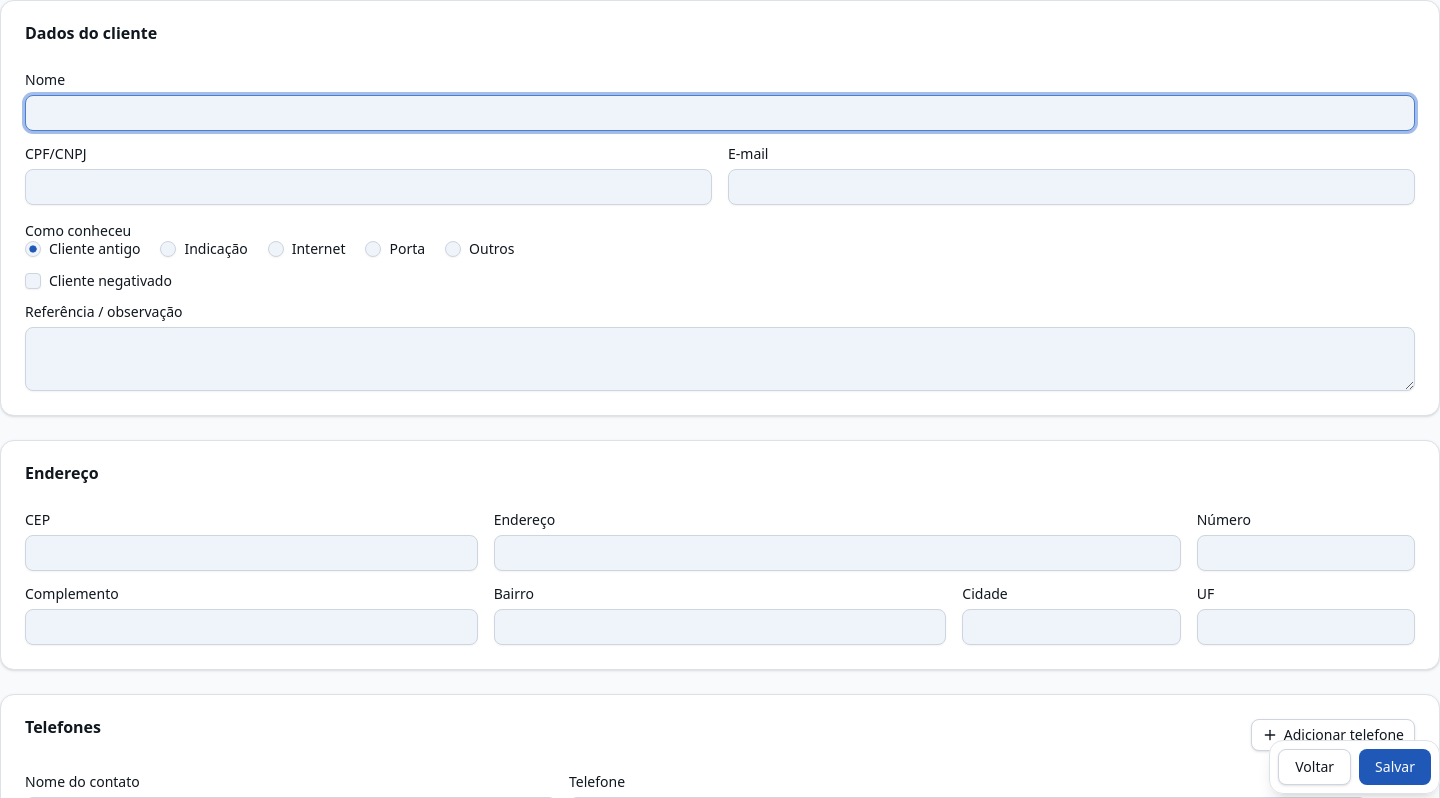
Scenario: ClienteFormulario: mensagens de erro (R-UX-18) › passar pelo Nome sem digitar e ir para outro campo não acusa erro; salvar acusa
Type "23" into the field labelled "CEP".
click(251, 553); type("23")  # box [25,535,478,571]
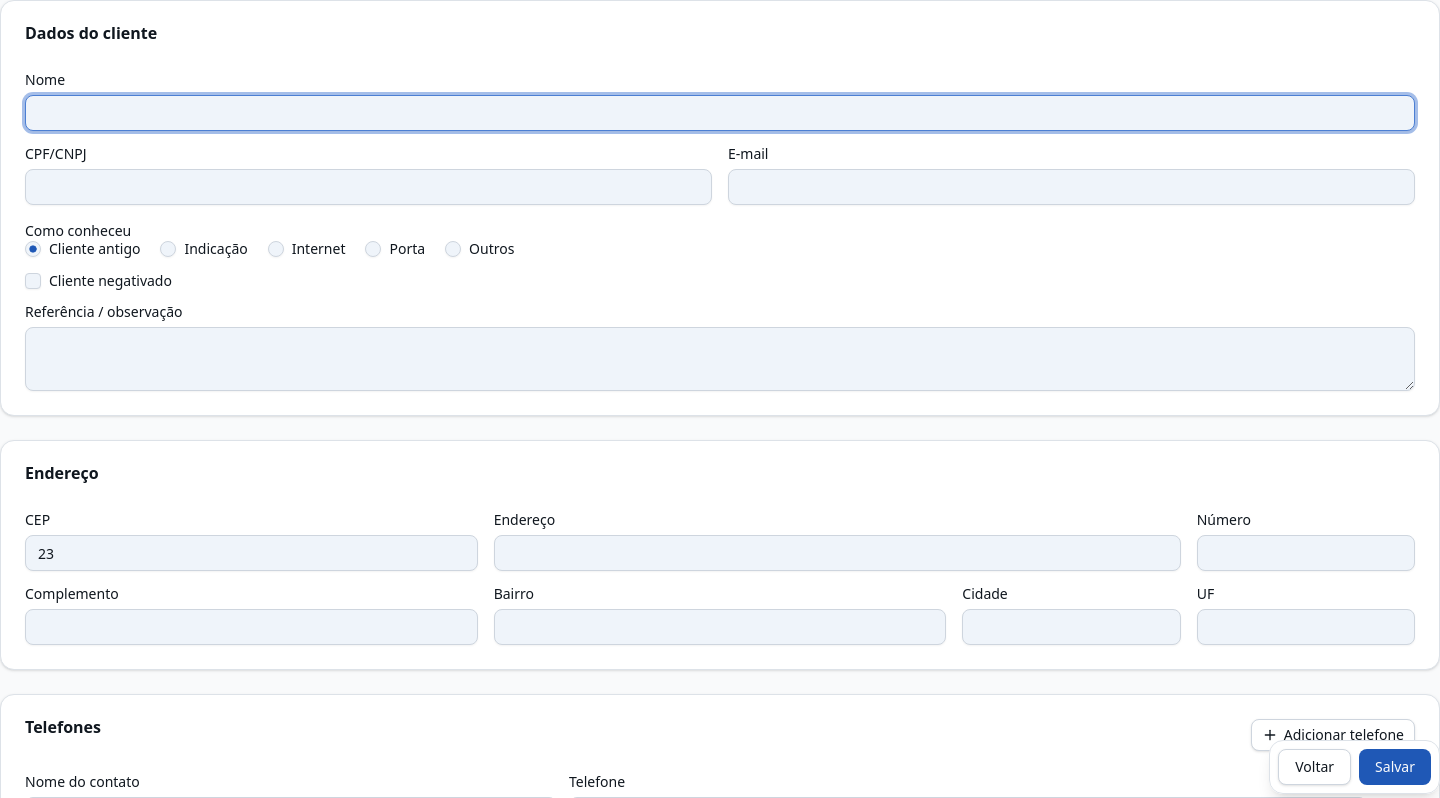
Type "a" into the field labelled "E-mail".
click(1072, 187); type("a")  # box [728,169,1415,205]
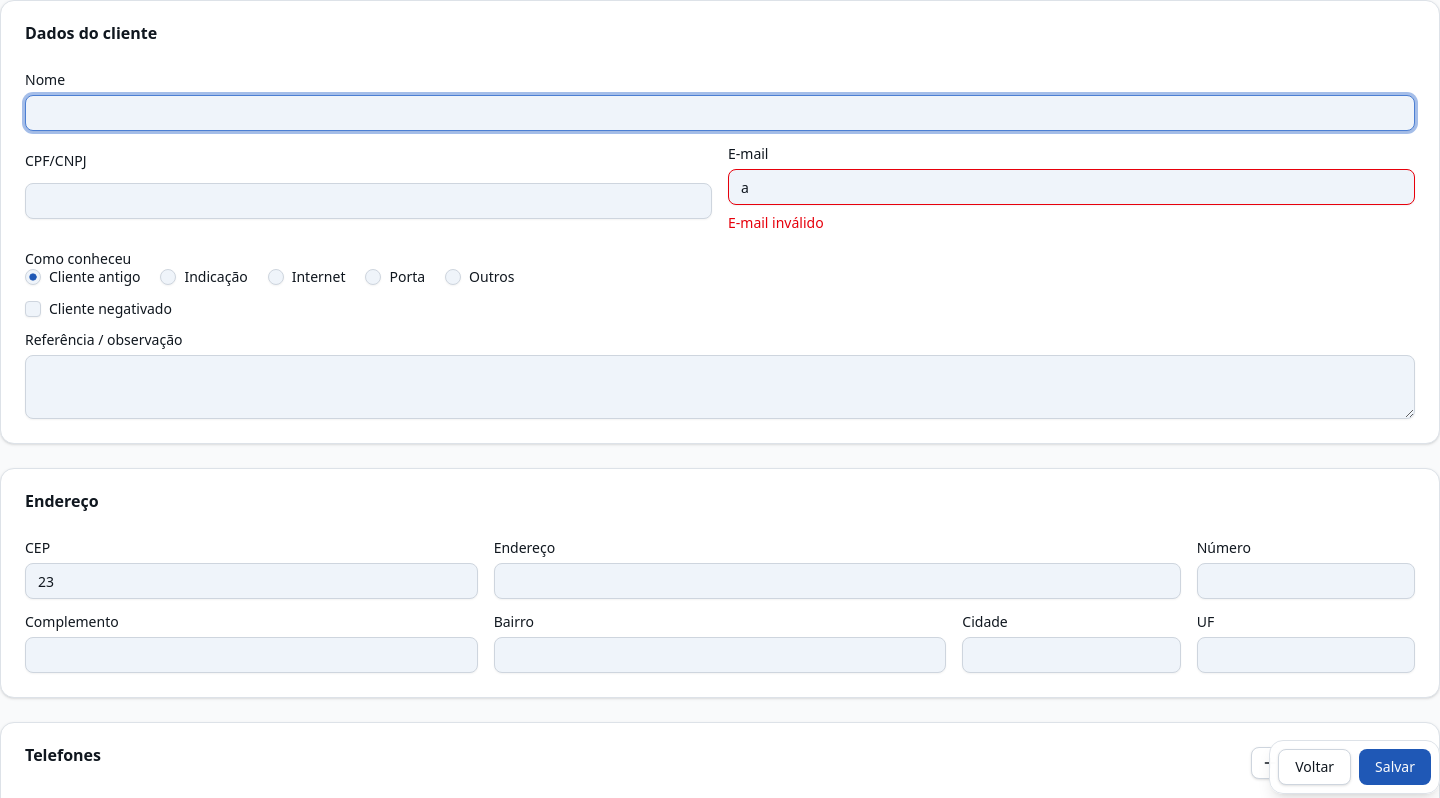
Expected: the text "Informe o nome" is not shown
Expected: the field labelled "E-mail" has attribute aria-invalid
Note: E-mail vazio de novo: o campo de e-mail do navegador barraria o envio antes do formulário.
Clear the field labelled "E-mail" at (1072, 187), box [728,169,1415,205]
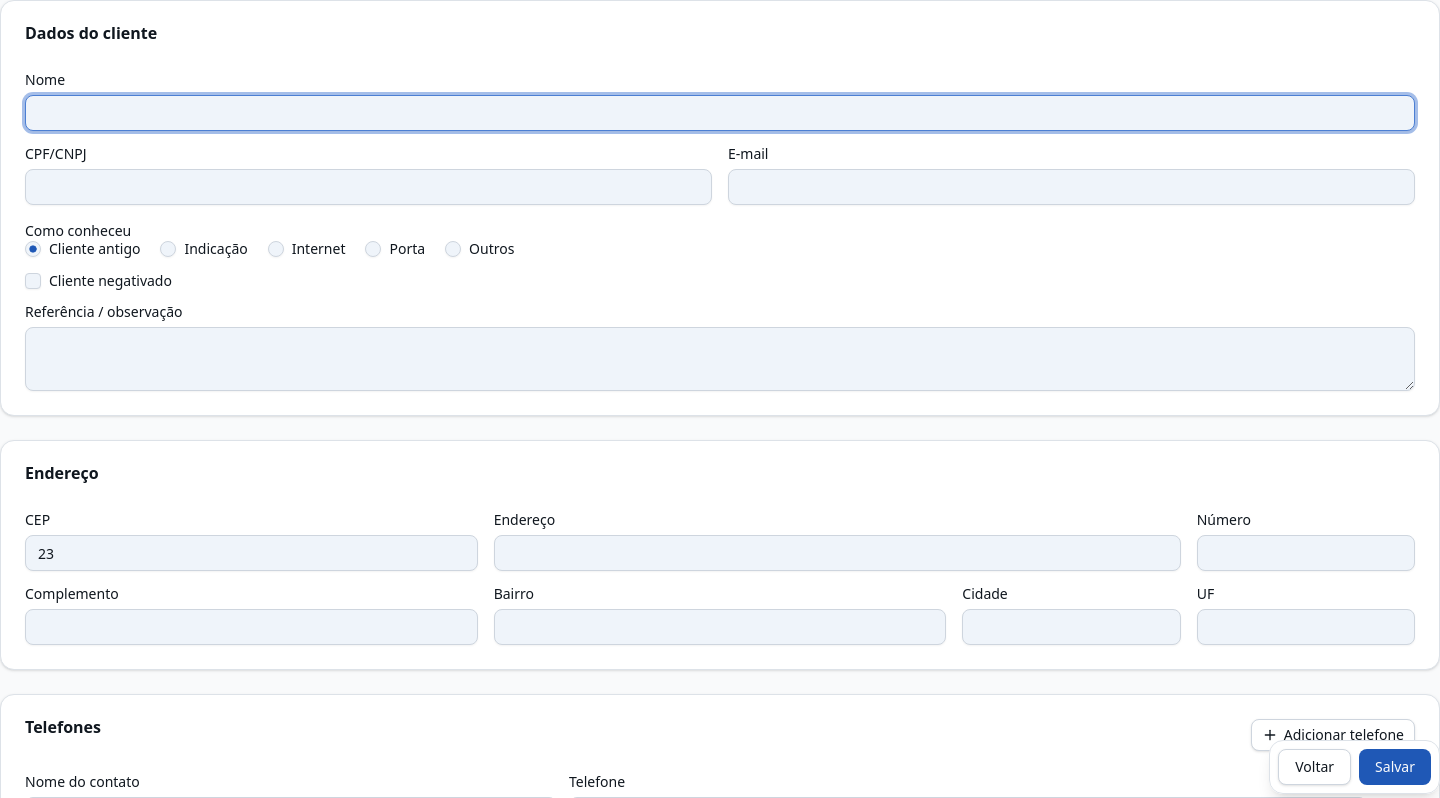
Click the button "Salvar".
click(1395, 767)  # box [1359,749,1431,785]
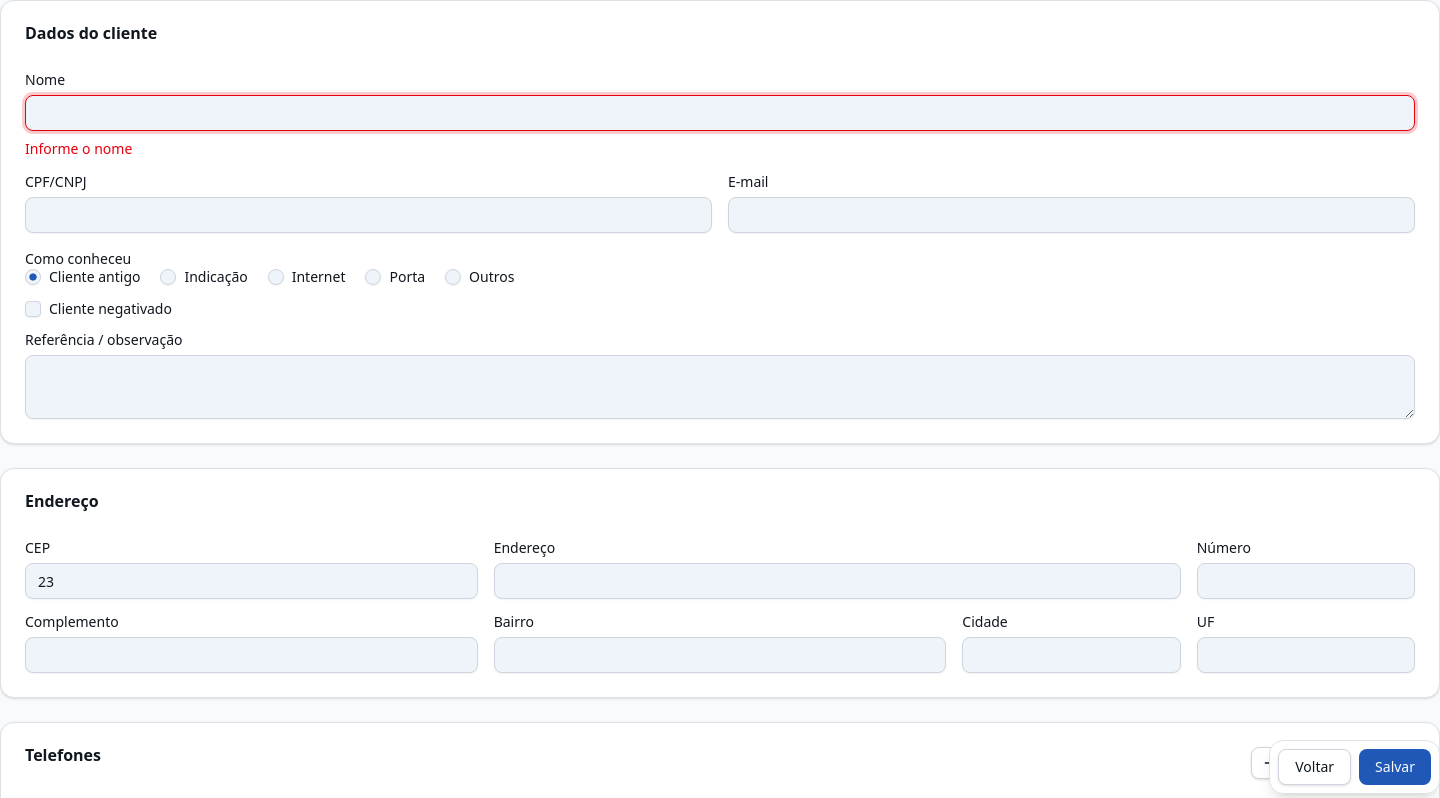
Expected: the text "Informe o nome" is shown, [25,139,132,158]
